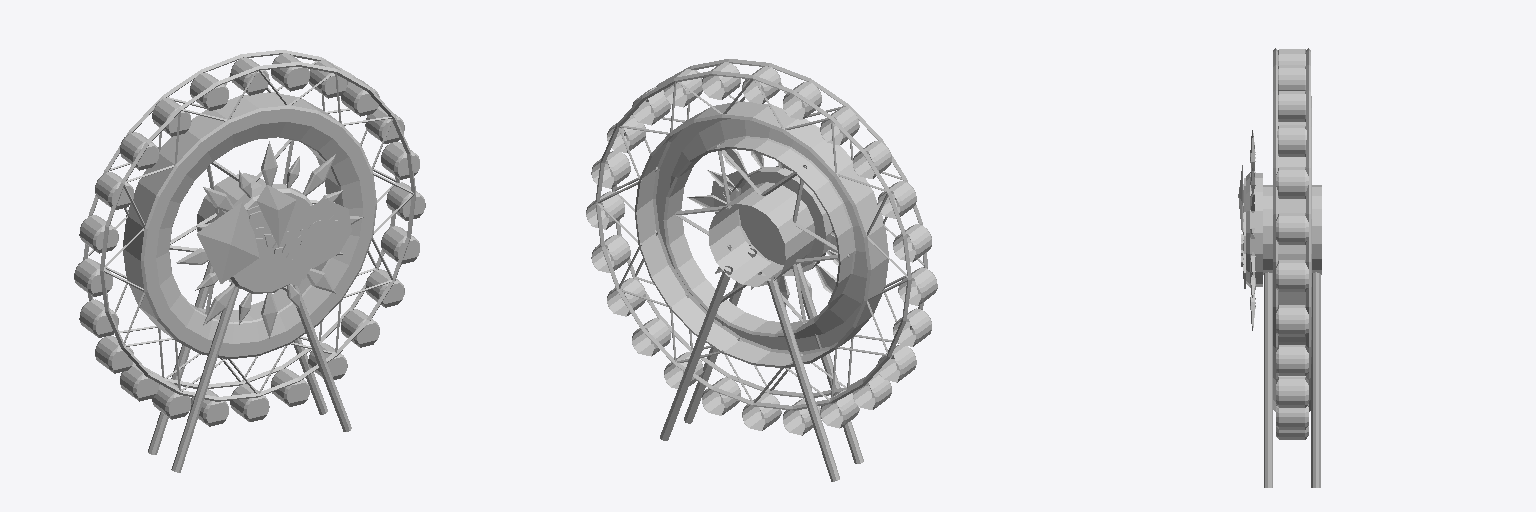
Rendered from stg110_MotWheel_18.obj.
3 views of the same model, side by side, from view 1: azimuth 30°, elevation 25°; view 2: azimuth 150°, elevation 25°; view 3: azimuth 270°, elevation 25° (orthographic).
Parts seen in each view (by area): view 1: polygon16, polygon13, polygon15, polygon7, polygon1, polygon14, polygon9, polygon5, polygon12, polygon0, polygon8, polygon6 (+19 smaller); view 2: polygon16, polygon13, polygon15, polygon8, polygon7, polygon14, polygon9, polygon10, polygon12; view 3: polygon7, polygon15, polygon9, polygon16, polygon8.
Boxes of the visible parts, x1=… form: polygon16: x1=123, y1=92, x2=376, y2=358; polygon13: x1=156, y1=122, x2=362, y2=343; polygon15: x1=83, y1=50, x2=415, y2=401; polygon7: x1=148, y1=261, x2=351, y2=472; polygon1: x1=197, y1=185, x2=295, y2=283; polygon14: x1=88, y1=61, x2=413, y2=393; polygon9: x1=176, y1=141, x2=363, y2=338; polygon5: x1=287, y1=199, x2=351, y2=268; polygon12: x1=183, y1=149, x2=357, y2=331; polygon0: x1=246, y1=248, x2=308, y2=286; polygon8: x1=197, y1=173, x2=265, y2=231; polygon6: x1=299, y1=216, x2=338, y2=247; polygon16: x1=635, y1=101, x2=888, y2=367; polygon13: x1=663, y1=119, x2=867, y2=338; polygon15: x1=595, y1=59, x2=927, y2=410; polygon8: x1=709, y1=182, x2=814, y2=286; polygon7: x1=660, y1=248, x2=863, y2=481; polygon14: x1=598, y1=70, x2=923, y2=402; polygon9: x1=687, y1=149, x2=838, y2=306; polygon10: x1=744, y1=174, x2=824, y2=260; polygon12: x1=694, y1=149, x2=835, y2=303; polygon7: x1=1264, y1=272, x2=1320, y2=487; polygon15: x1=1273, y1=48, x2=1310, y2=411; polygon9: x1=1246, y1=130, x2=1262, y2=330; polygon16: x1=1278, y1=96, x2=1311, y2=363; polygon8: x1=1263, y1=185, x2=1321, y2=274.
Size of the model in its own units: 805 by 870 by 172.